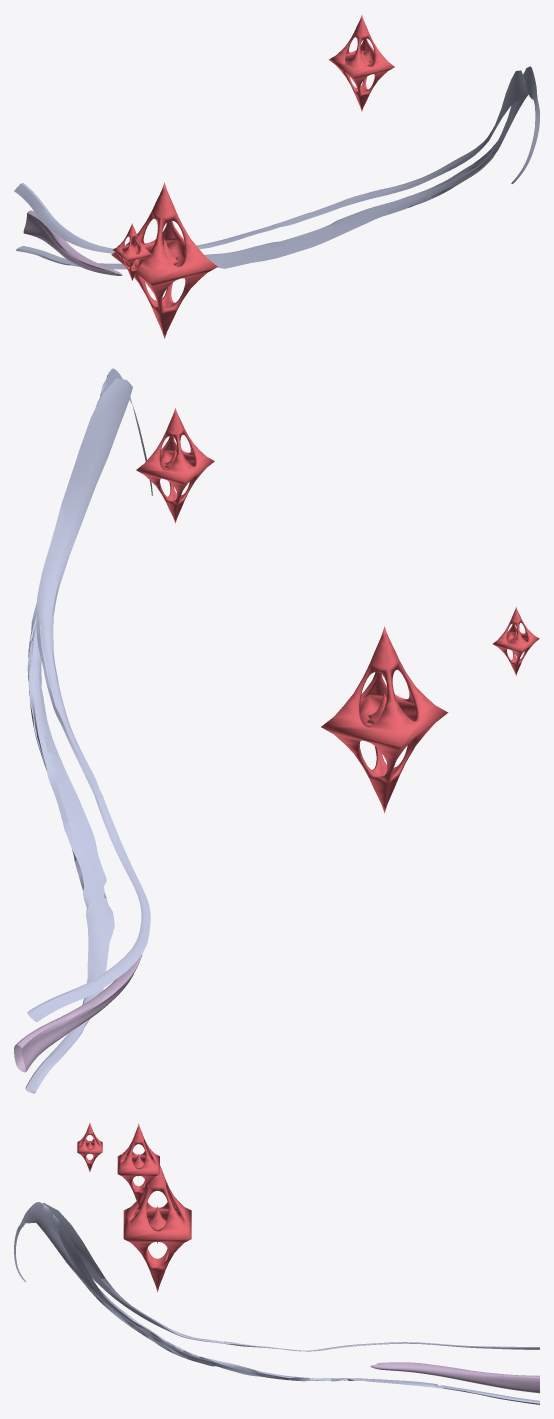
File: SM_Butterfly_Behind_RT_6.fbx
3 views of the same model, one above another, from view 1: azimuth 30°, elevation 25°; view 2: azimuth 150°, elevation 25°; view 3: azimuth 270°, elevation 25° (orthographic). The views are drawn at different scales.
Visible parts, largest first — view 1: 6; view 2: 6; view 3: 6.
Part boxes in pixels (box(x1,y1,x2,y2)): 6: box(14, 15, 539, 338); 6: box(14, 368, 539, 1093); 6: box(14, 1122, 539, 1404).
Bounding box in the file's own units: 136 × 127 × 184.
